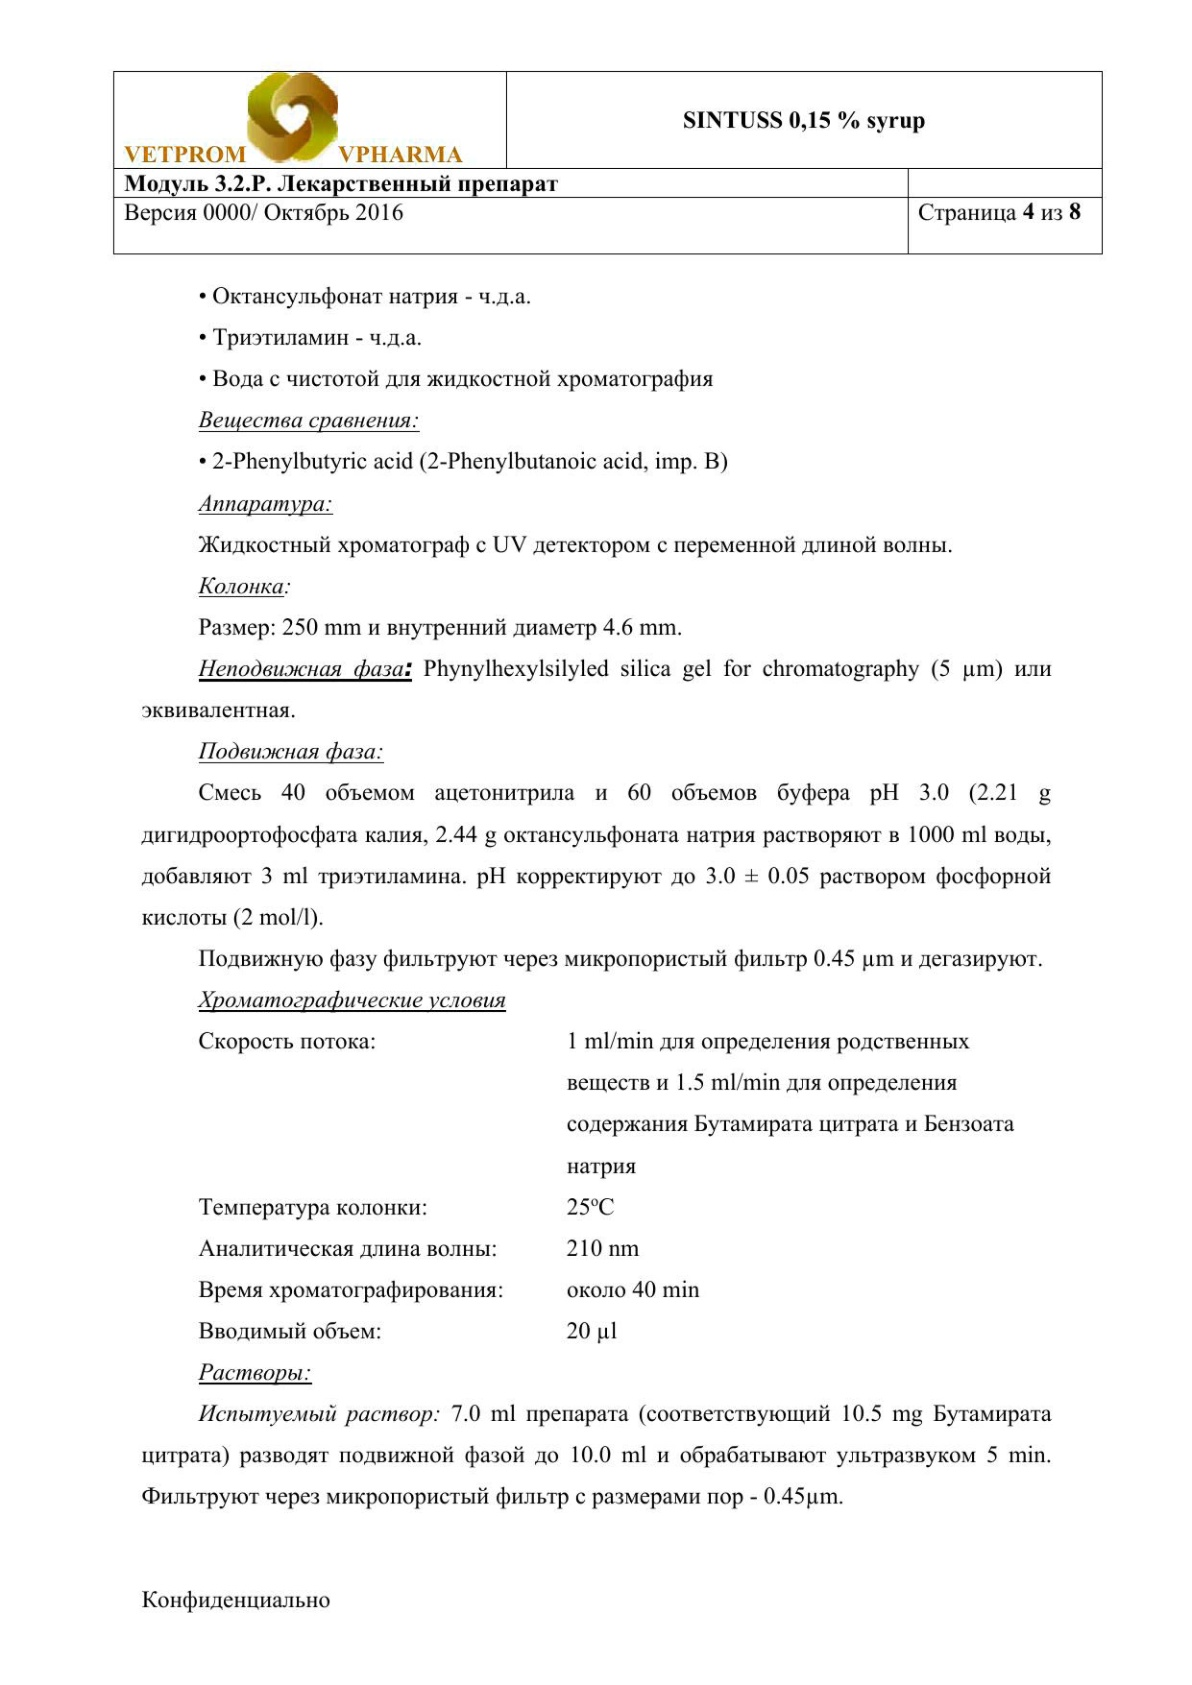merged_cells: (112, 68, 1106, 255)
nolines: (197, 1027, 1020, 1344)
